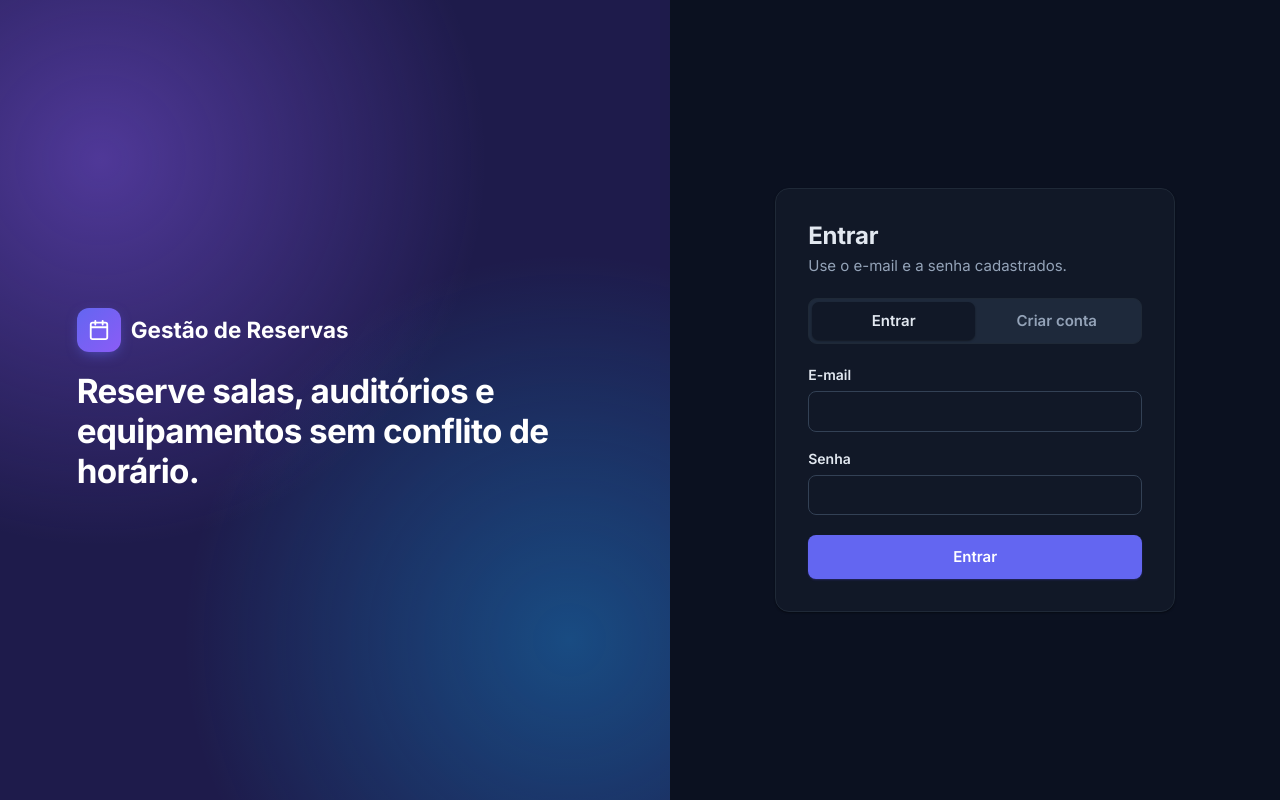
it: Login › mostra a mensagem da API quando as credenciais são inválidas
Step 1. Type "ana@teste.com" into the field labelled "E-mail" → (975, 411), box [808, 391, 1142, 432]
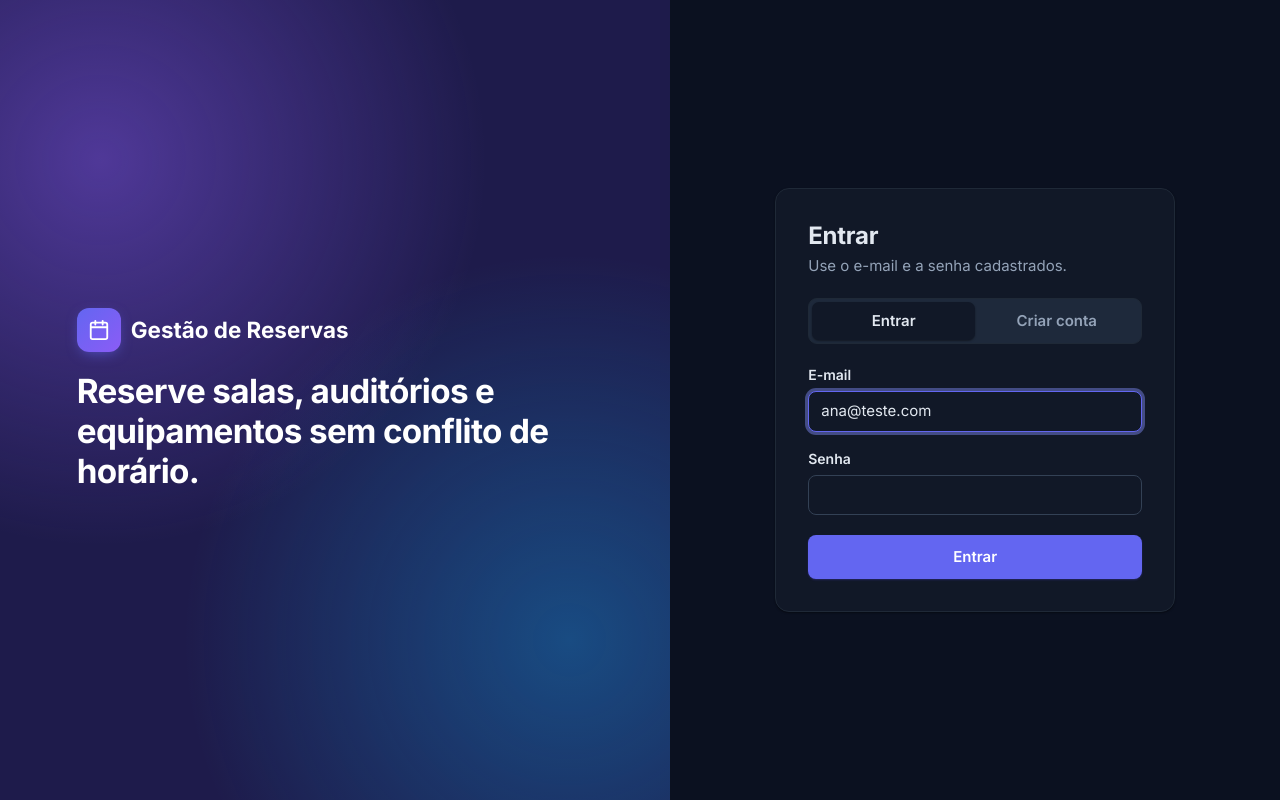
Step 2. Type "errada" into the password field labelled "Senha" → (975, 495), box [808, 474, 1142, 515]
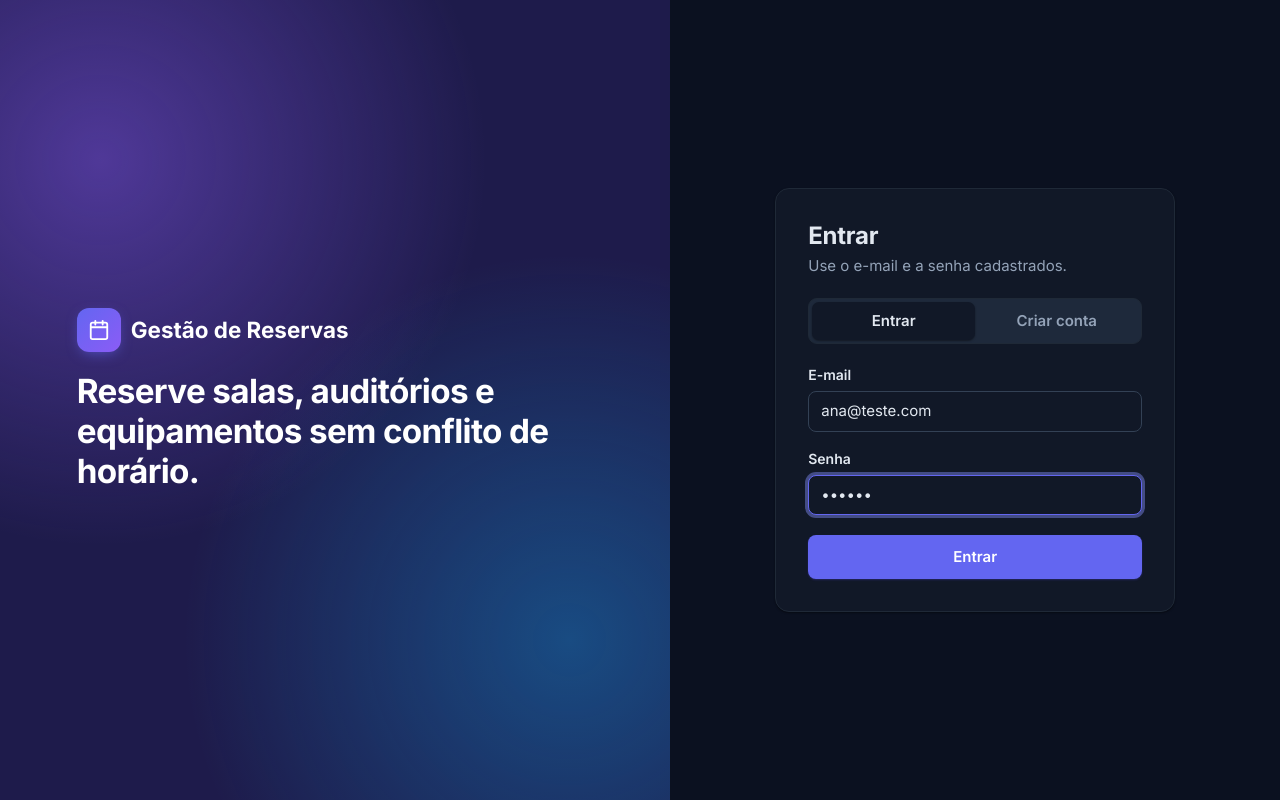
Step 3. Click the button "Entrar" → (975, 557), box [808, 535, 1142, 579]
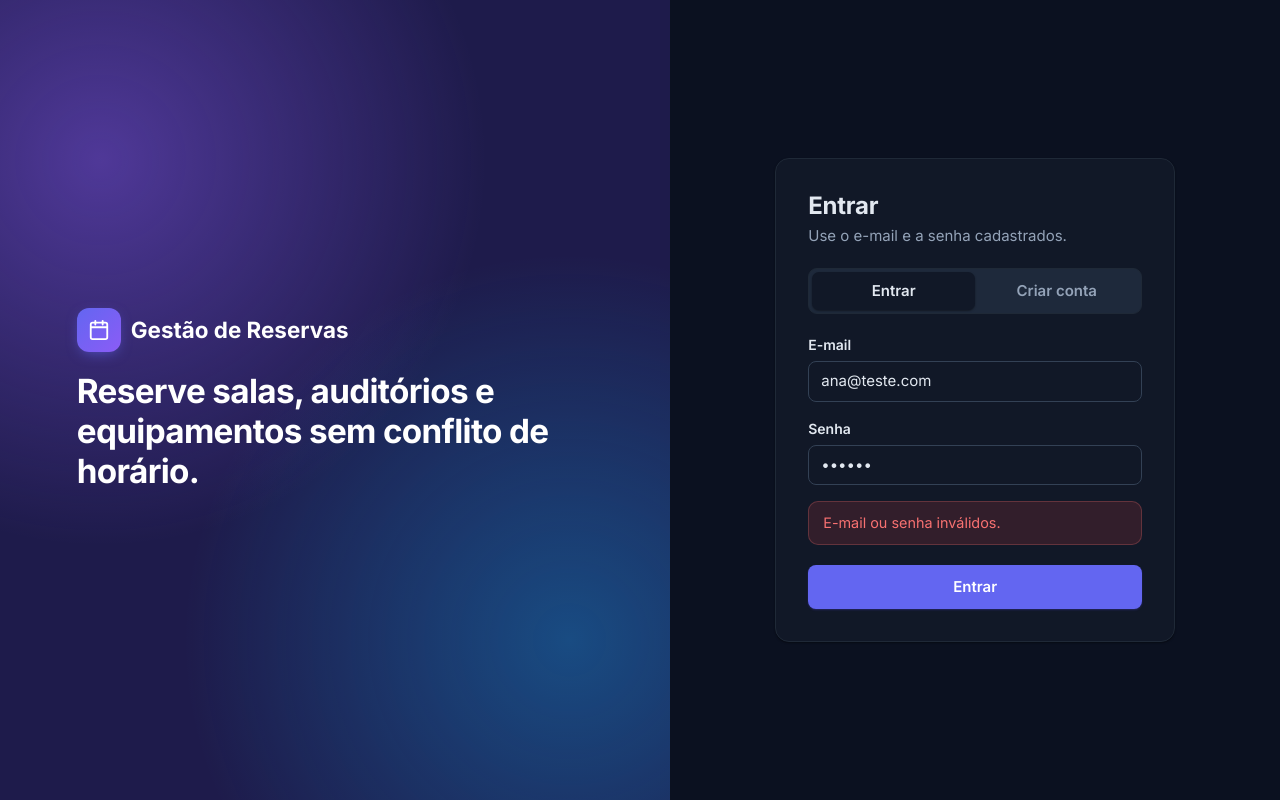
Check: the button "Entrar" is enabled, box [808, 565, 1142, 609]
Check: the message reads "E-mail ou senha inválidos.", box [823, 514, 1000, 531]
